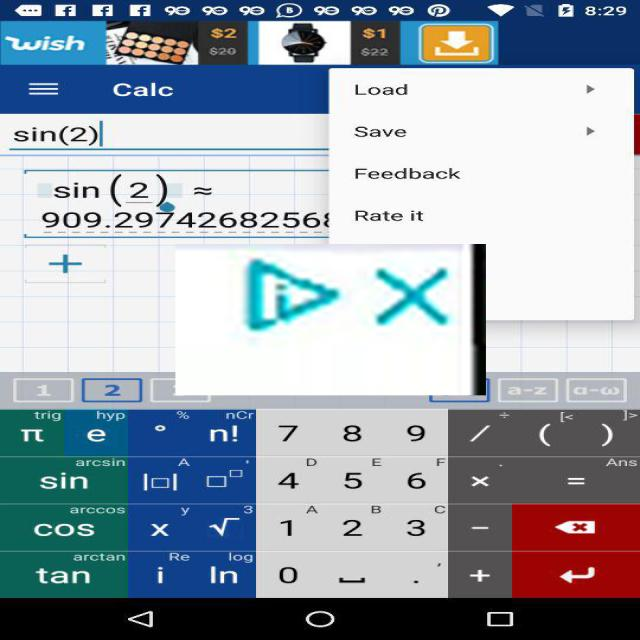sneaking: (175, 244, 486, 395)
